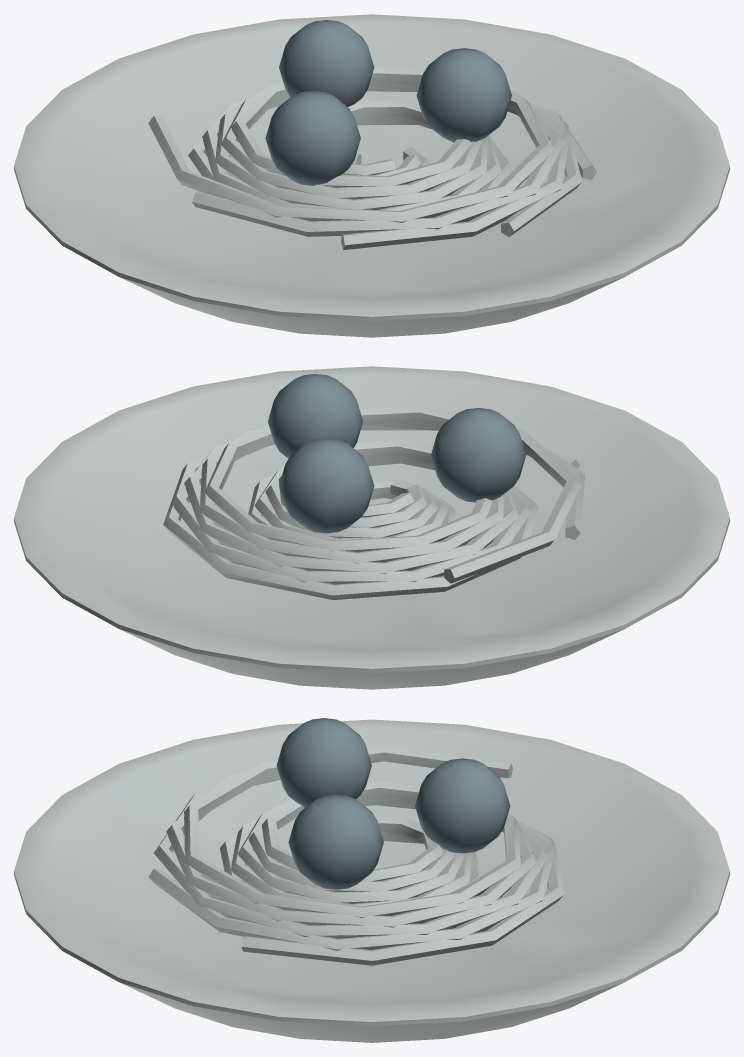
Rendered from spaghetti-plate.glb.
3 renders of one model, top to bottom at view 1: azimuth 30°, elevation 25°; view 2: azimuth 150°, elevation 25°; view 3: azimuth 270°, elevation 25°, orthographic.
Parts seen in each view (by area): view 1: dish, pasta_strand_4, pasta_strand_3, pasta_strand_2, meatball, meatball.001, meatball.002, pasta_strand_1, pasta_strand_0; view 2: dish, pasta_strand_4, pasta_strand_2, pasta_strand_1, pasta_strand_3, pasta_strand_0, meatball.002, meatball, meatball.001; view 3: dish, pasta_strand_4, pasta_strand_2, pasta_strand_3, pasta_strand_1, meatball.001, meatball.002, pasta_strand_0, meatball.
Part boxes in pixels (x1,y1,x2,y2): dish: (14,14,729,337); pasta_strand_4: (148,66,554,222); pasta_strand_3: (192,68,564,236); pasta_strand_2: (215,83,570,249); meatball: (265,91,360,185); meatball.001: (416,48,511,141); meatball.002: (279,20,374,106); pasta_strand_1: (202,84,581,236); pasta_strand_0: (188,86,596,190); dish: (14,366,729,689); pasta_strand_4: (204,406,581,583); pasta_strand_2: (184,422,579,573); pasta_strand_1: (171,425,531,584); pasta_strand_3: (199,406,584,563); pasta_strand_0: (163,448,538,599); meatball.002: (279,438,374,533); meatball: (431,408,526,502); meatball.001: (268,374,362,458); dish: (14,719,729,1042); pasta_strand_4: (184,746,520,917); pasta_strand_2: (154,792,548,938); pasta_strand_3: (166,771,536,927); pasta_strand_1: (149,802,554,950); meatball.001: (288,794,383,889); meatball.002: (415,758,510,853); pasta_strand_0: (220,803,563,965); meatball: (276,718,371,808).
Bounding box in the file's own units: 0.3 × 0.075 × 0.3.
